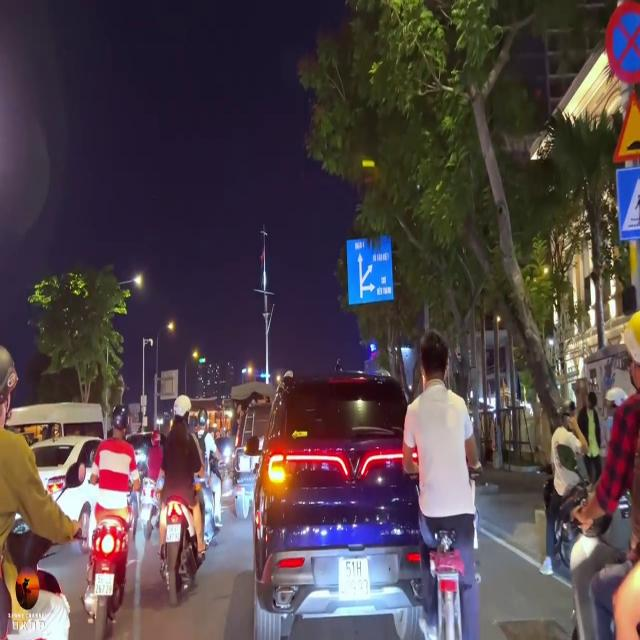bien_trang: (337, 550, 369, 602)
